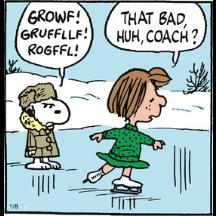snoopy: (16, 82, 70, 170)
